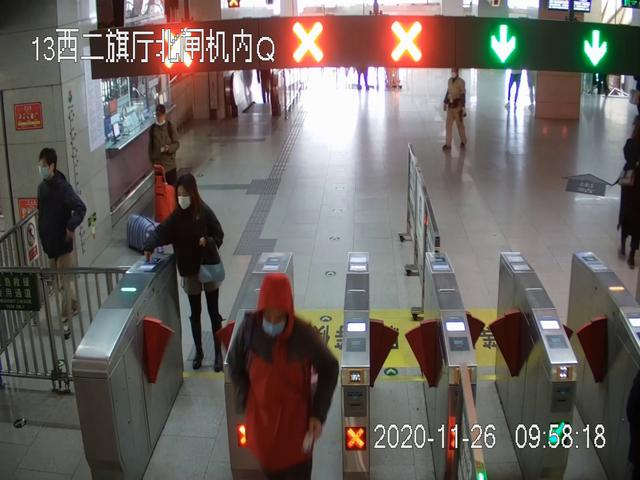person: (228, 274, 338, 480), (146, 173, 225, 371), (35, 147, 86, 335), (149, 105, 179, 222), (443, 68, 467, 152)
